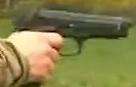gun: (1, 1, 136, 87)
